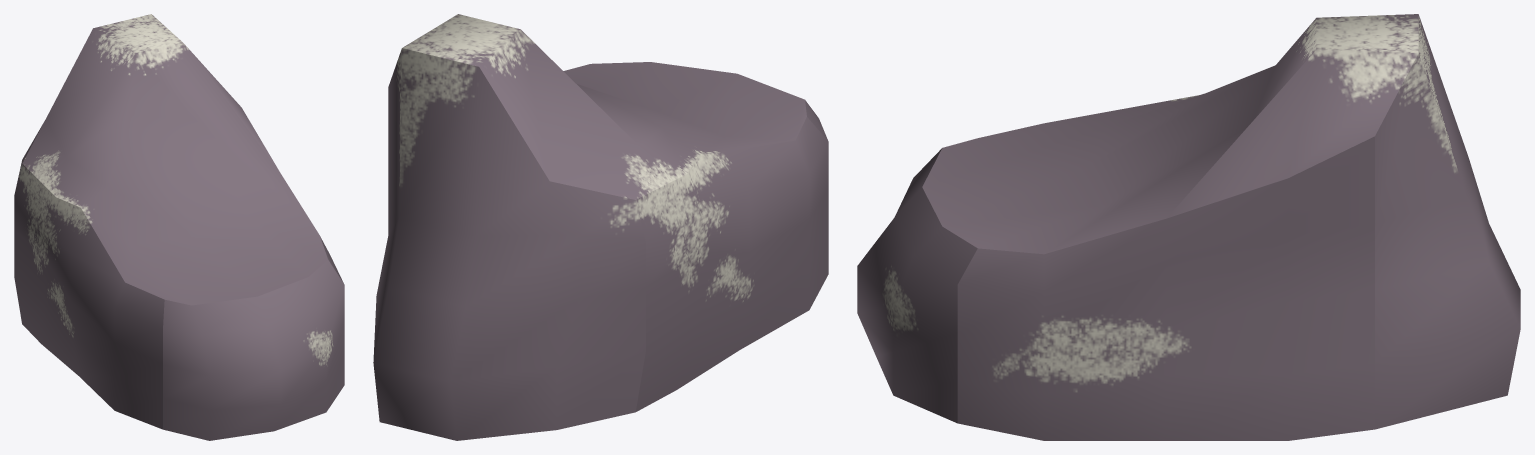
Rendered from boulder2.fbx.
3 views of the same model, side by side, from view 1: azimuth 30°, elevation 25°; view 2: azimuth 150°, elevation 25°; view 3: azimuth 270°, elevation 25° (orthographic). The views are drawn at different scales.
Visible parts, largest first — view 1: Boulder2; view 2: Boulder2; view 3: Boulder2.
Boxes of the visible parts, left/top/right/bottom form: Boulder2: left=14, top=14, right=344, bottom=440; Boulder2: left=373, top=14, right=828, bottom=440; Boulder2: left=857, top=14, right=1520, bottom=440.
Size of the model in its own units: 46.06 by 50.08 by 85.38.
1 material, 1 textured.
